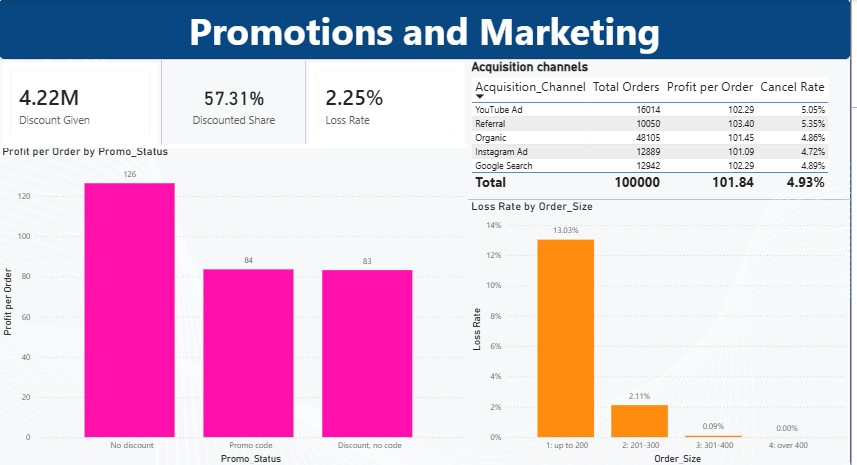

Layout of this report page (visuals, bound fields, positions):
{"tool":"powerbi","page":{"name":"03_Promo_Marketing","canvas":[1280,720],"ordinal":2},"visuals":[{"type":"shape","box":[0,0,1280.3,90.6],"z":0},{"type":"clusteredColumnChart","fields":{"Category":["orders.Promo_Status"],"Y":["orders.Profit per Order"]},"box":[0,218.6,705.2,484.5],"z":1},{"type":"tableEx","title":"Acquisition channels","fields":{"Values":["orders.Acquisition_Channel","orders.Total Orders","orders.Profit per Order","Date_Table.Cancel Rate"]},"box":[705.2,90.6,575.2,210.8],"z":2},{"type":"cardVisual","fields":{"Data":["Date_Table.Discount Given"]},"box":[0,90.6,244.2,133.9],"z":3},{"type":"cardVisual","fields":{"Data":["Date_Table.Loss Rate"]},"box":[460.9,90.6,244.2,133.9],"z":4},{"type":"card","fields":{"Values":["Date_Table.Discounted Share"]},"box":[244.2,90.6,216.7,133.9],"z":5},{"type":"clusteredColumnChart","fields":{"Category":["orders.Order_Size"],"Y":["Date_Table.Loss Rate"]},"box":[705.2,301.4,575.2,401.8],"z":6}]}

Visuals, with their boxes on the page's 1280x720 design canvas (x1, y1, x2, y2). These are canvas units, not pixel positions in the 857x465 screenshot, which may show the page scaled, cropped or inside an application window:
shape: region(0, 0, 1280, 91)
clusteredColumnChart - orders.Promo_Status x orders.Profit per Order: region(0, 219, 705, 703)
"Acquisition channels" tableEx: region(705, 91, 1280, 301)
cardVisual - Date_Table.Discount Given: region(0, 91, 244, 224)
cardVisual - Date_Table.Loss Rate: region(461, 91, 705, 224)
card - Date_Table.Discounted Share: region(244, 91, 461, 224)
clusteredColumnChart - orders.Order_Size x Date_Table.Loss Rate: region(705, 301, 1280, 703)
